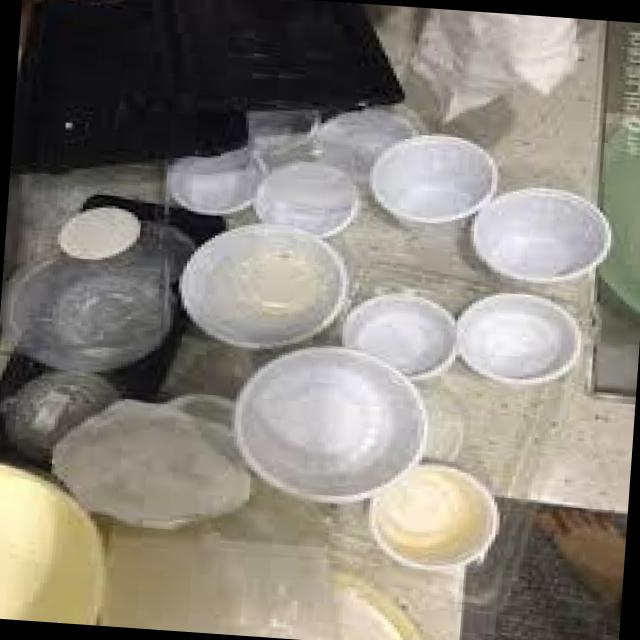plastic-bowl: (221, 338, 440, 507), (176, 216, 356, 352), (0, 239, 165, 382), (180, 218, 350, 352), (360, 447, 512, 583), (460, 175, 612, 285), (369, 126, 508, 229), (331, 281, 465, 385), (452, 286, 584, 388), (333, 286, 464, 385), (0, 363, 113, 462), (250, 157, 367, 240), (163, 139, 275, 219)
